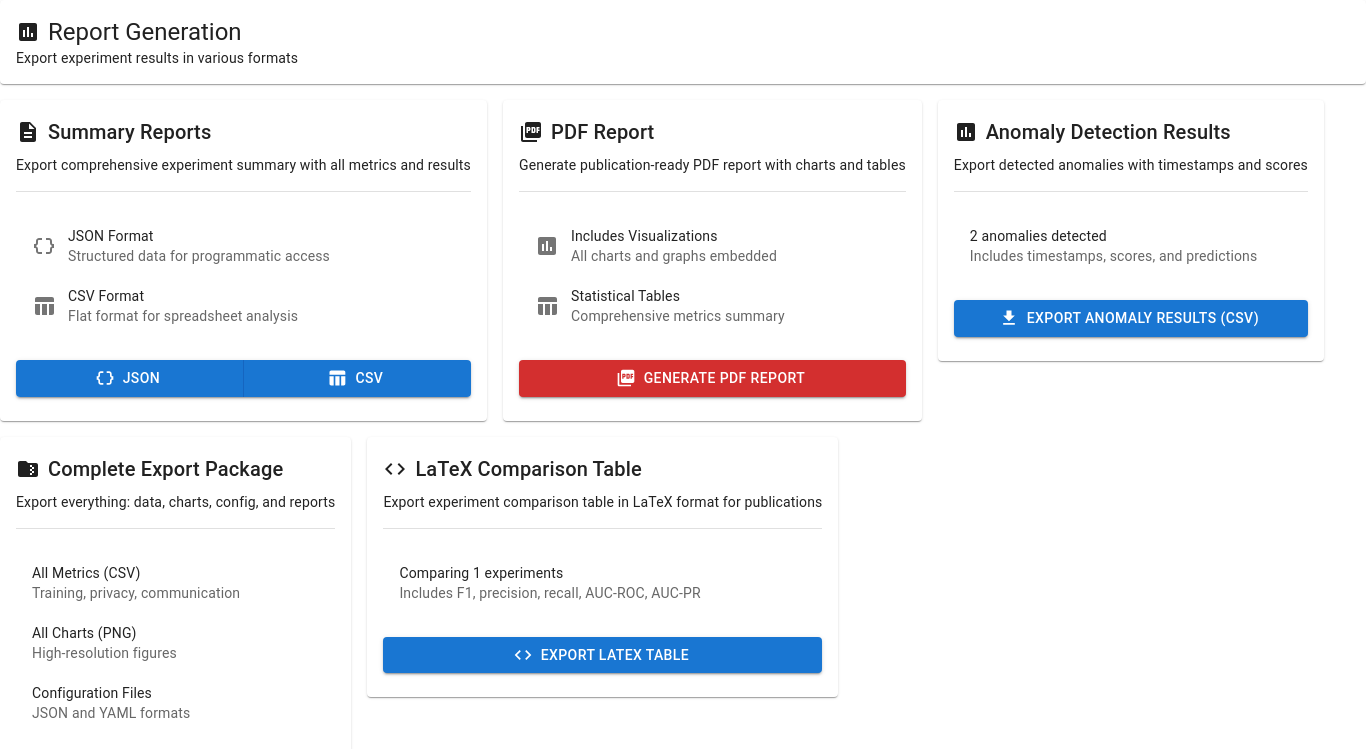
ReportGeneration › LaTeX Comparison Export › should handle export error
Click the button "Export LaTeX Table": (603, 655) [383, 637, 822, 673]
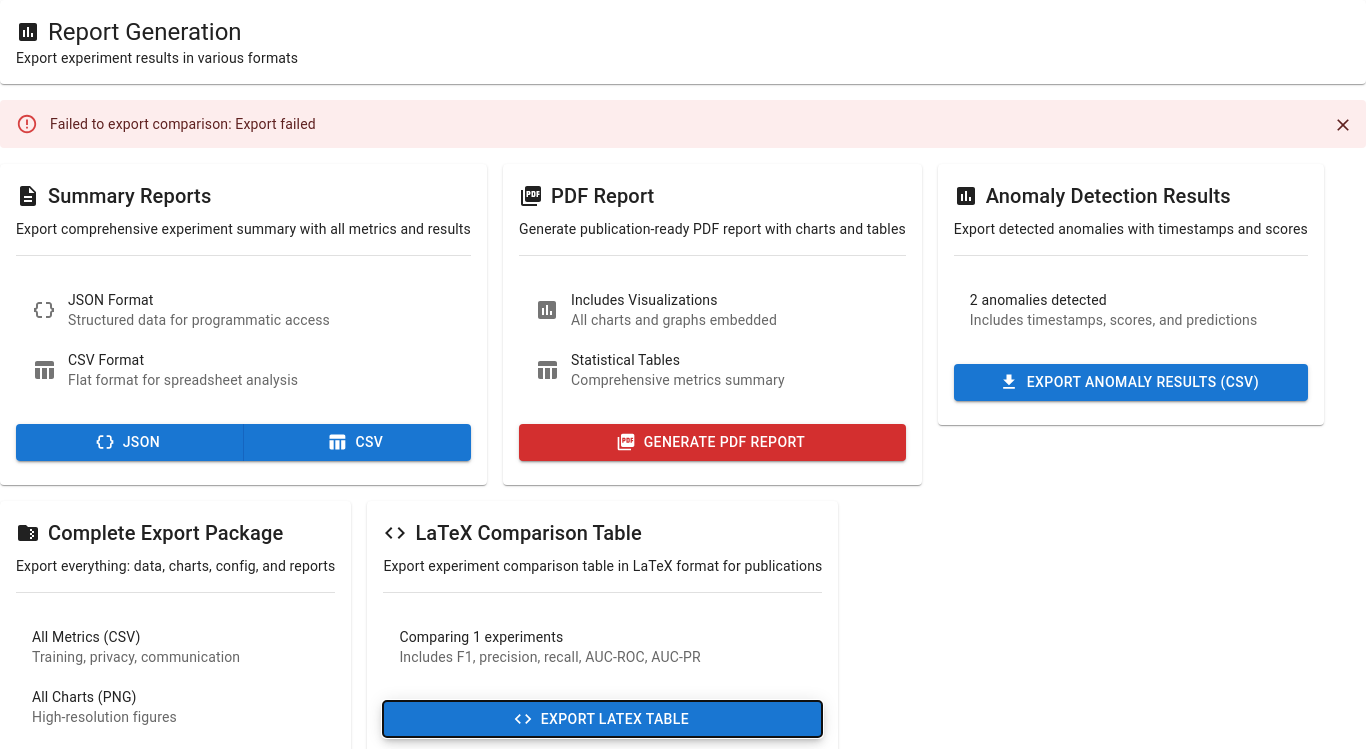
Now the text "Failed to export comparison: Export failed" is shown, box [50, 116, 316, 132]
